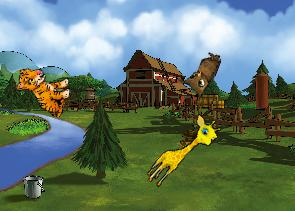giraffe: (142, 109, 225, 196)
owl: (180, 46, 222, 99)
tiger: (13, 65, 73, 118)
